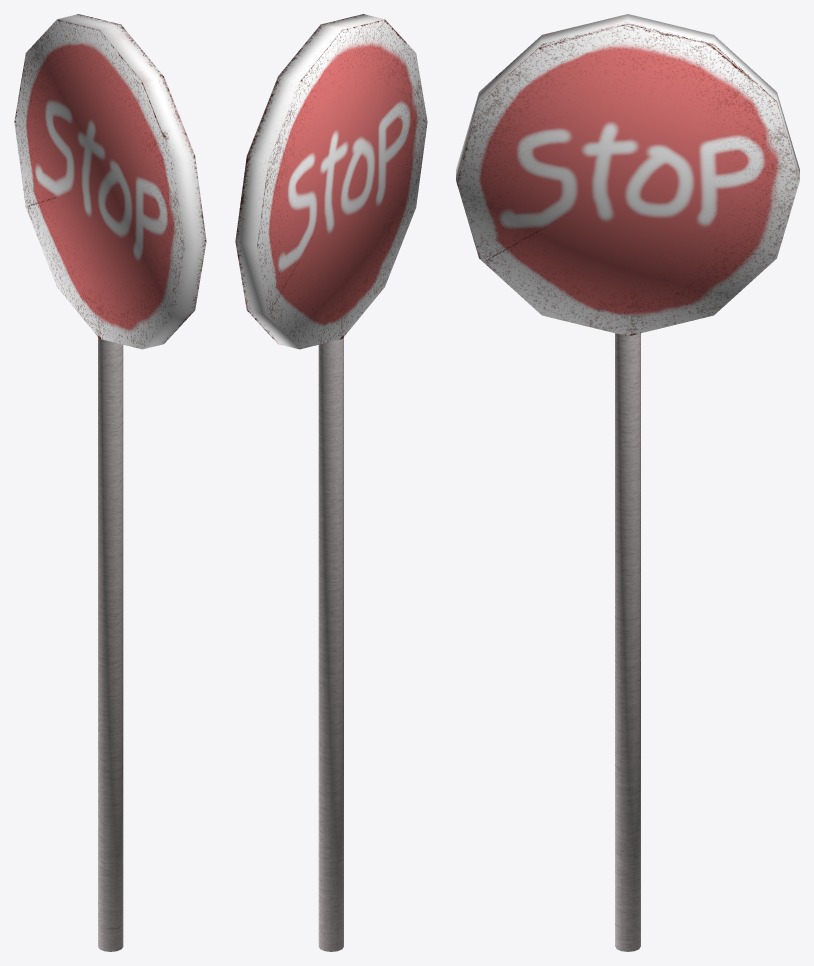
The model's file is Stopsign.fbx.
3 views of the same model, side by side, from view 1: azimuth 30°, elevation 25°; view 2: azimuth 150°, elevation 25°; view 3: azimuth 270°, elevation 25° (orthographic).
Visible parts, largest first — view 1: Stopsign; view 2: Stopsign; view 3: Stopsign.
Boxes of the visible parts, x1,y1,x2,y2 form: Stopsign: (14,14,206,951); Stopsign: (235,14,427,951); Stopsign: (456,14,799,951).
Size of the model in its own units: 14.97 by 595 by 200.
